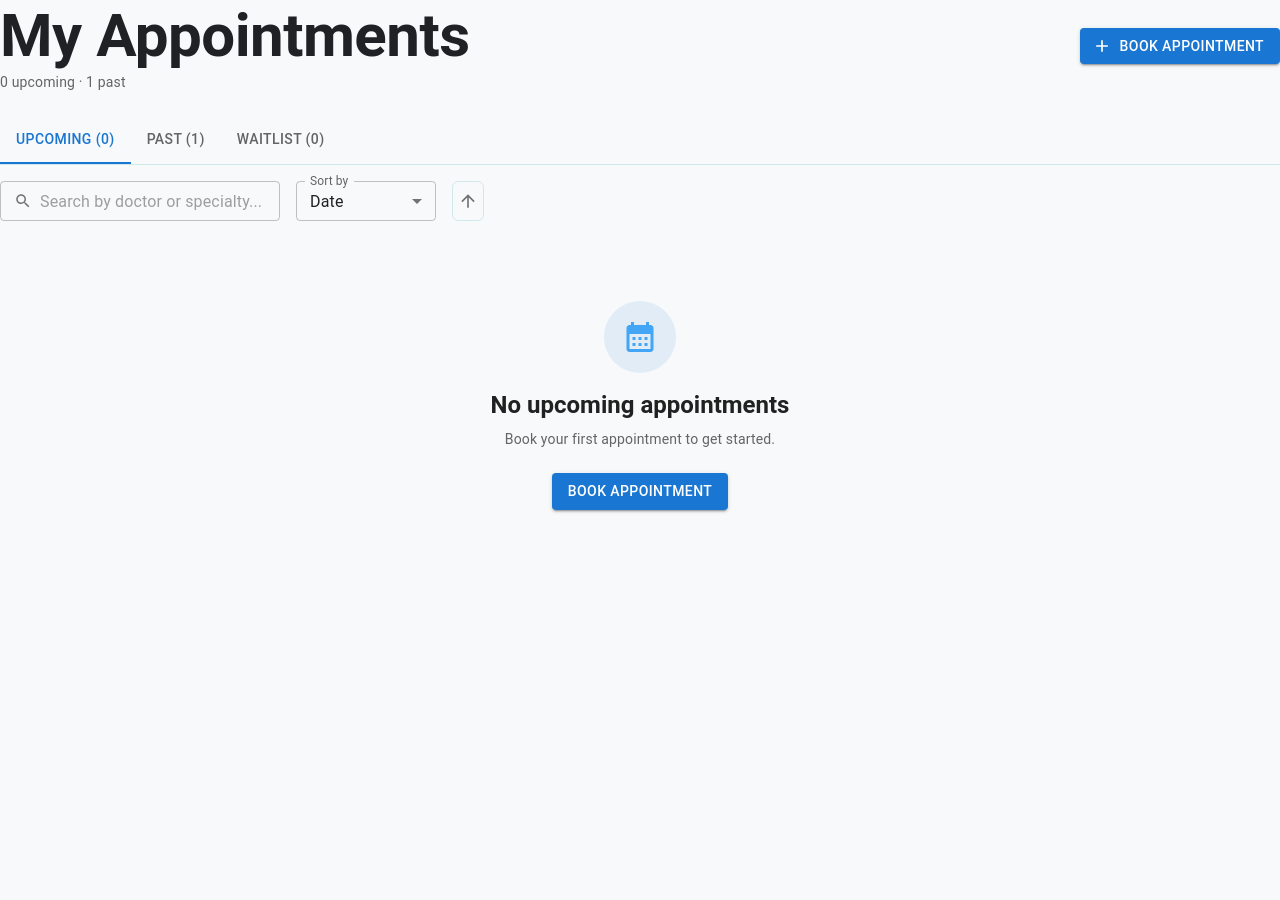
Test: PatientAppointments — review submission (P1-06) › shows "Leave a Review" for a completed appointment without one, and opens the dialog
The image size is (1280, 900).
Click the tab "Past (1)": (176, 140) 131,116 -> 221,164
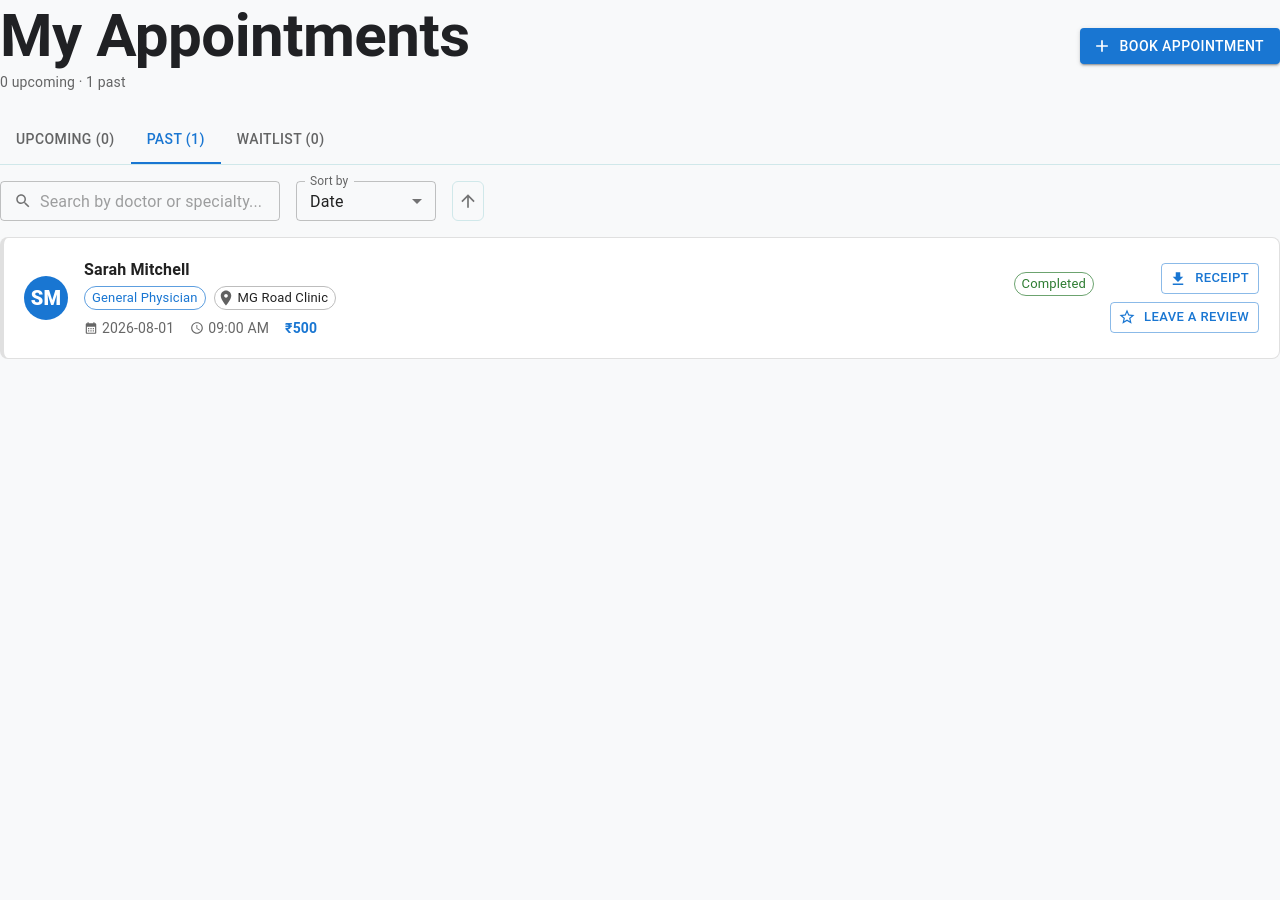
Click the button "Leave a Review": (1184, 317) 1110,302 -> 1259,333
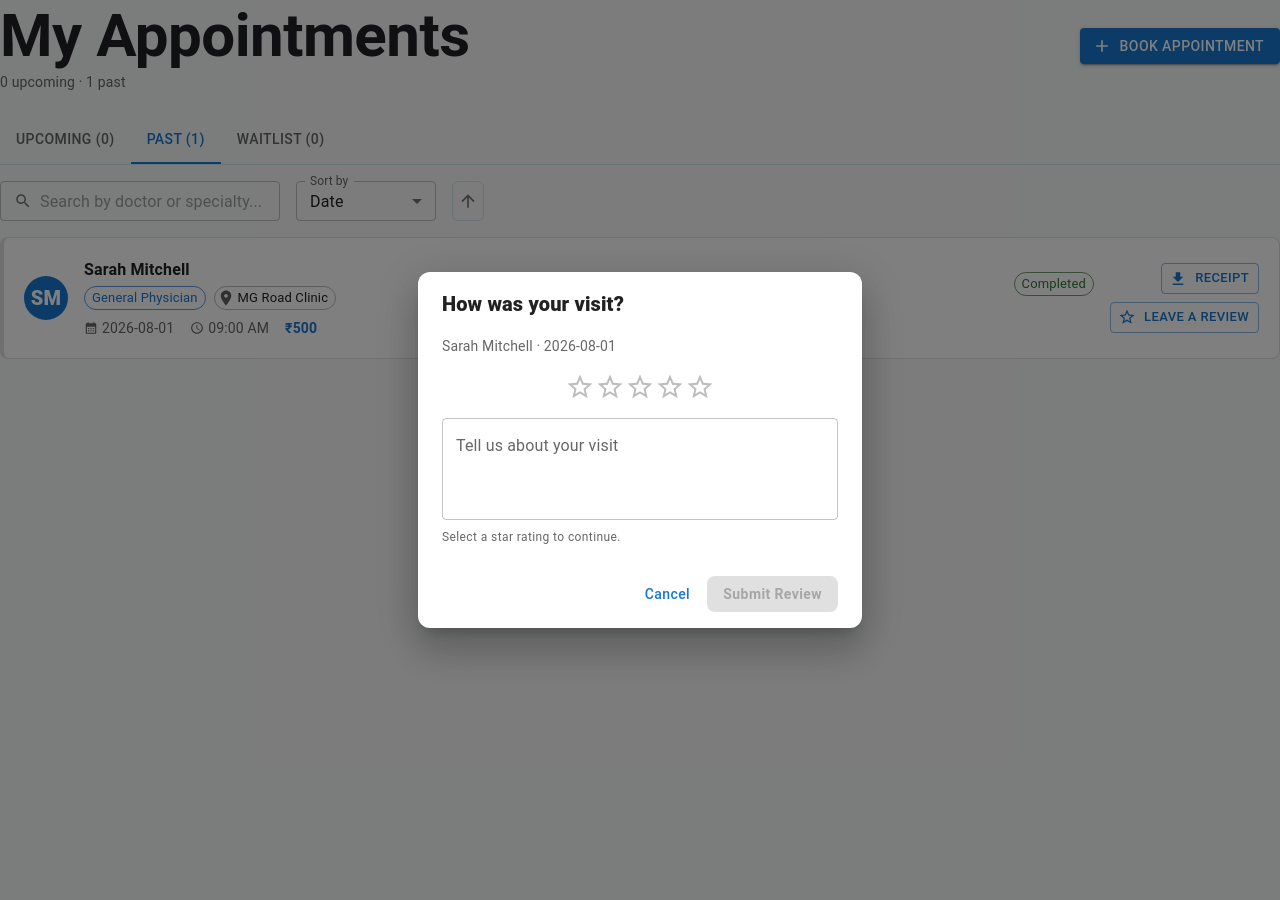
Result: the heading "How was your visit?" is shown at 442,292 -> 624,316
